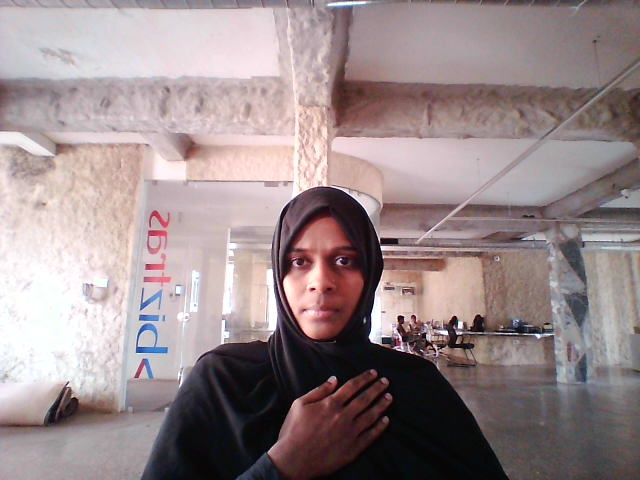PLEASE: (243, 347, 428, 478)
